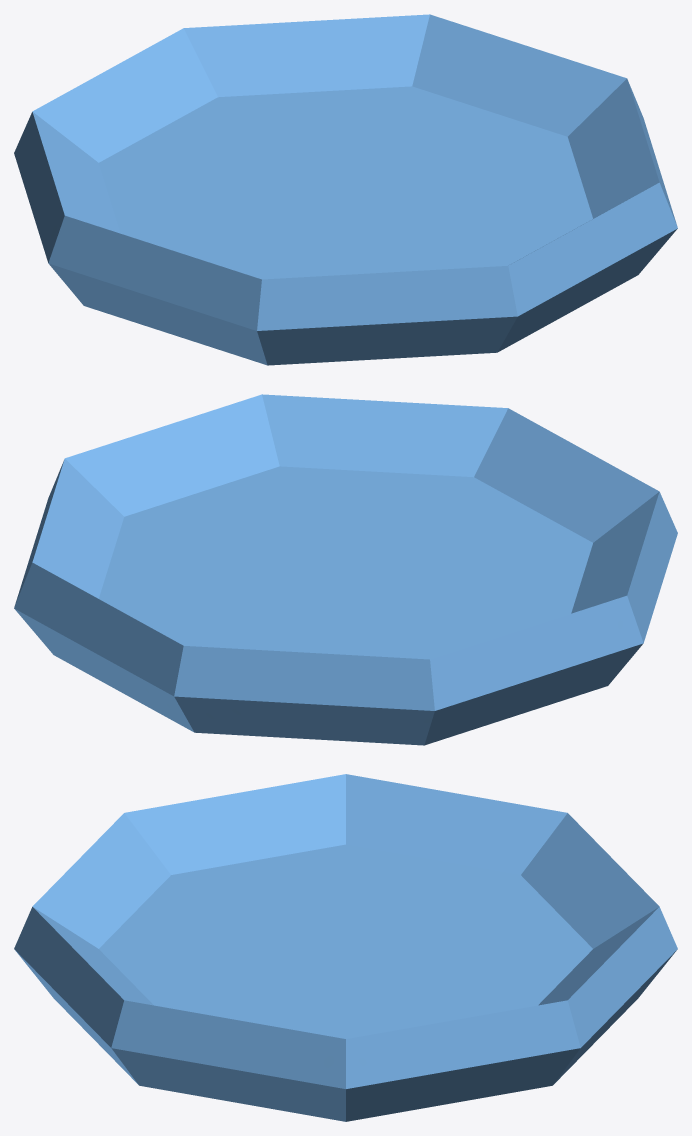
File: jfdx_dj3.FBX
The picture shows the model from 3 angles, top to bottom: view 1: azimuth 30°, elevation 25°; view 2: azimuth 150°, elevation 25°; view 3: azimuth 270°, elevation 25°; orthographic projection. The views are drawn at different scales.
Parts seen in each view (by area): view 1: jfdx_dj3; view 2: jfdx_dj3; view 3: jfdx_dj3.
Boxes of the visible parts, x1,y1,x2,y2 form: jfdx_dj3: [14, 14, 677, 365]; jfdx_dj3: [14, 394, 677, 745]; jfdx_dj3: [14, 774, 677, 1121].
Size of the model in its own units: 1.13 by 0.1717 by 1.13.
